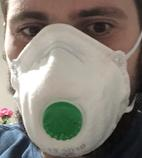with_mask: (2, 2, 142, 158)
